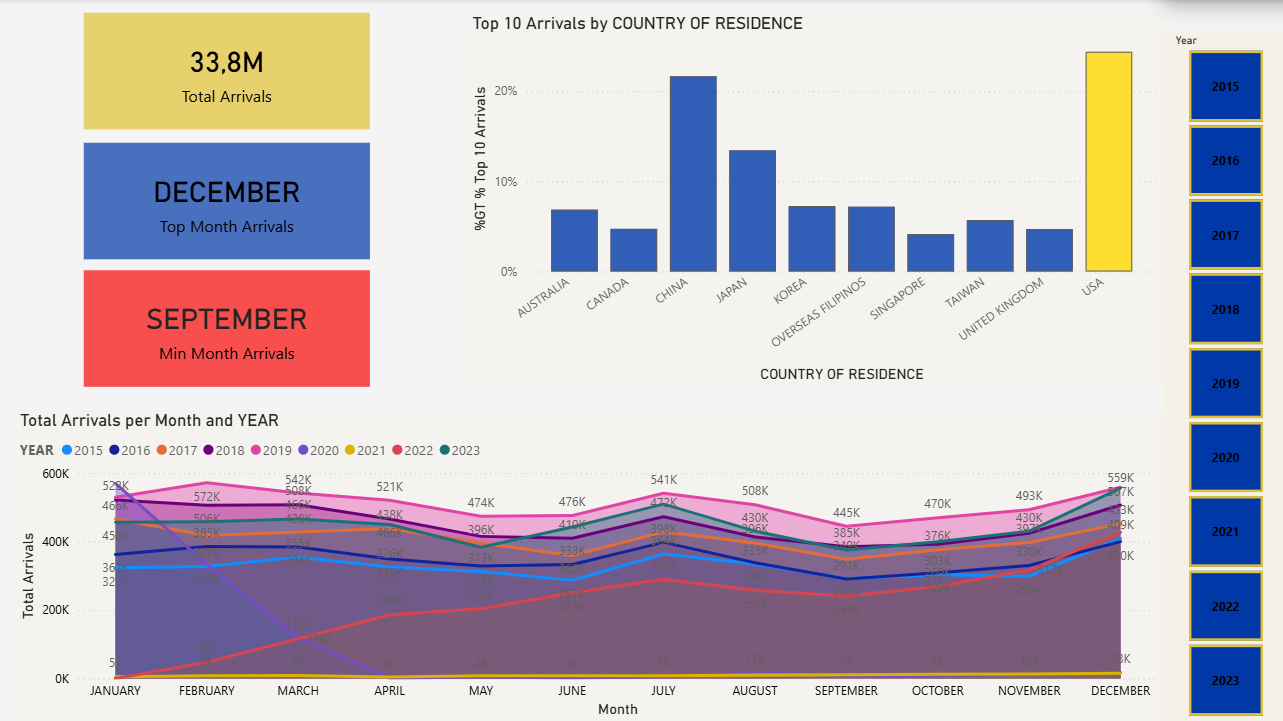

This screenshot's page, from the dashboard's own definition file:
{"tool":"powerbi","page":{"name":"Arrivals by Month","canvas":[1280,720],"ordinal":1},"visuals":[{"type":"areaChart","title":"Total Arrivals per Month and YEAR","fields":{"Category":["df_master_2015_2023.Month"],"Series":["df_master_2015_2023.YEAR"],"Y":["Measures (2).Total Arivals"]},"box":[0,71.3,1155.2,337.6],"z":0},{"type":"slicer","fields":{"Values":["Dim_Date.Year"]},"box":[1156.9,70.9,123.4,608.2],"z":1000},{"type":"card","fields":{"Values":["Measures (2).Total Arivals"]},"box":[0,521.8,575.6,157.3],"z":2000},{"type":"lineClusteredColumnComboChart","fields":{"Category":["df_master_2015_2023.COUNTRY OF RESIDENCE"],"Y":["Divide(Measures (2).% Top 10 Arrivals, ScopedEval(Measures (2).% Top 10 Arrivals, []))"]},"box":[575.6,408.8,579.6,270.3],"z":3000},{"type":"card","fields":{"Values":["Measures (2).Mes con más turismo"]},"box":[0,408.8,287.8,113],"z":4000},{"type":"card","fields":{"Values":["Measures (2).Min Month Arrivals"]},"box":[287.8,408.8,287.8,113],"z":5000}]}

Visuals, with their boxes in screenshot pixels (x1, y1, x2, y2), scaled from the page's 1280x720 canvas onto the 1283x721 screenshot:
"Total Arrivals per Month and YEAR" areaChart: box=[0, 71, 1158, 409]
slicer - Dim_Date.Year: box=[1160, 71, 1282, 680]
card - Measures (2).Total Arivals: box=[0, 523, 577, 680]
lineClusteredColumnComboChart - df_master_2015_2023.COUNTRY OF RESIDENCE x Divide(Measures (2).% Top 10 Arrivals, ScopedEval(Measures (2).% Top 10 Arrivals, [])): box=[577, 409, 1158, 680]
card - Measures (2).Mes con más turismo: box=[0, 409, 288, 523]
card - Measures (2).Min Month Arrivals: box=[288, 409, 577, 523]
